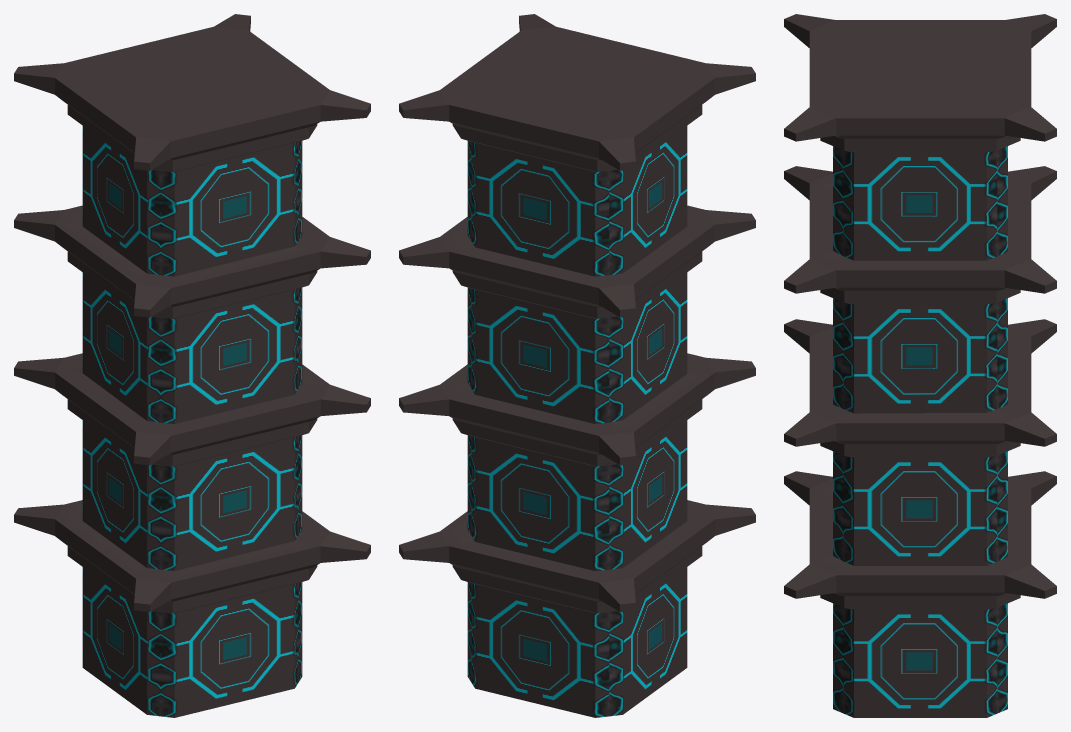
Rendered from Pillar.glb.
3 views of the same model, side by side, from view 1: azimuth 30°, elevation 25°; view 2: azimuth 150°, elevation 25°; view 3: azimuth 270°, elevation 25° (orthographic). The views are drawn at different scales.
Parts seen in each view (by area): view 1: Cube.004; view 2: Cube.004; view 3: Cube.004.
Boxes of the visible parts, x1=… form: Cube.004: x1=14, y1=14, x2=370, y2=717; Cube.004: x1=399, y1=14, x2=755, y2=717; Cube.004: x1=784, y1=14, x2=1056, y2=717.
Size of the model in its own units: 1.59 by 3.76 by 1.53.
1 material, 1 textured.
